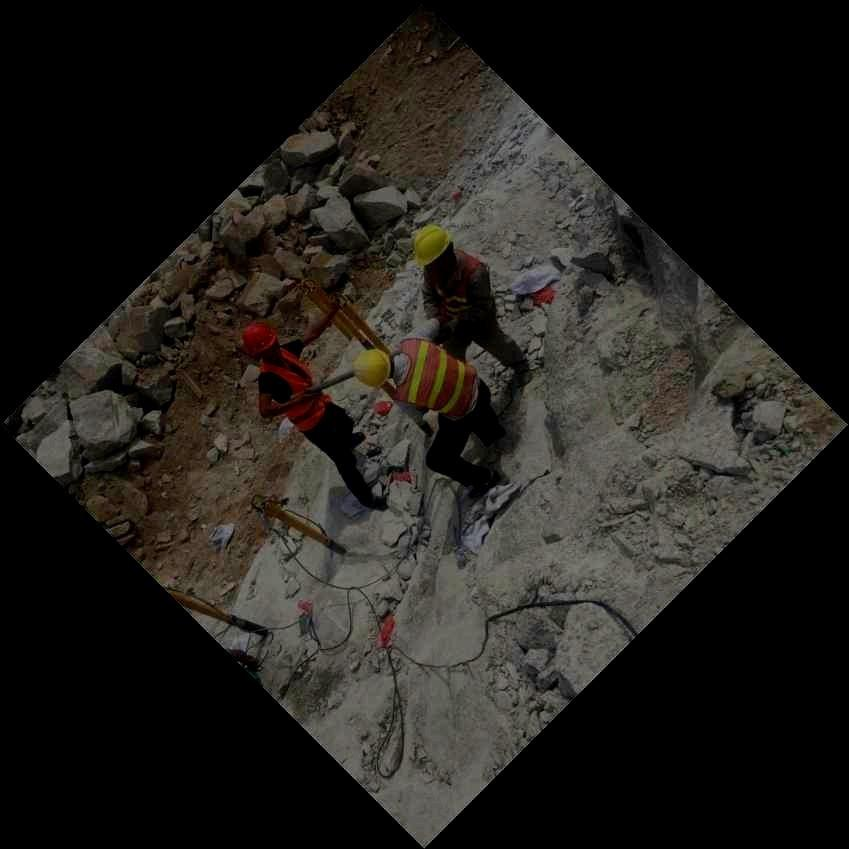helmet: (413, 223, 456, 274), (352, 348, 396, 389), (241, 323, 282, 360)
